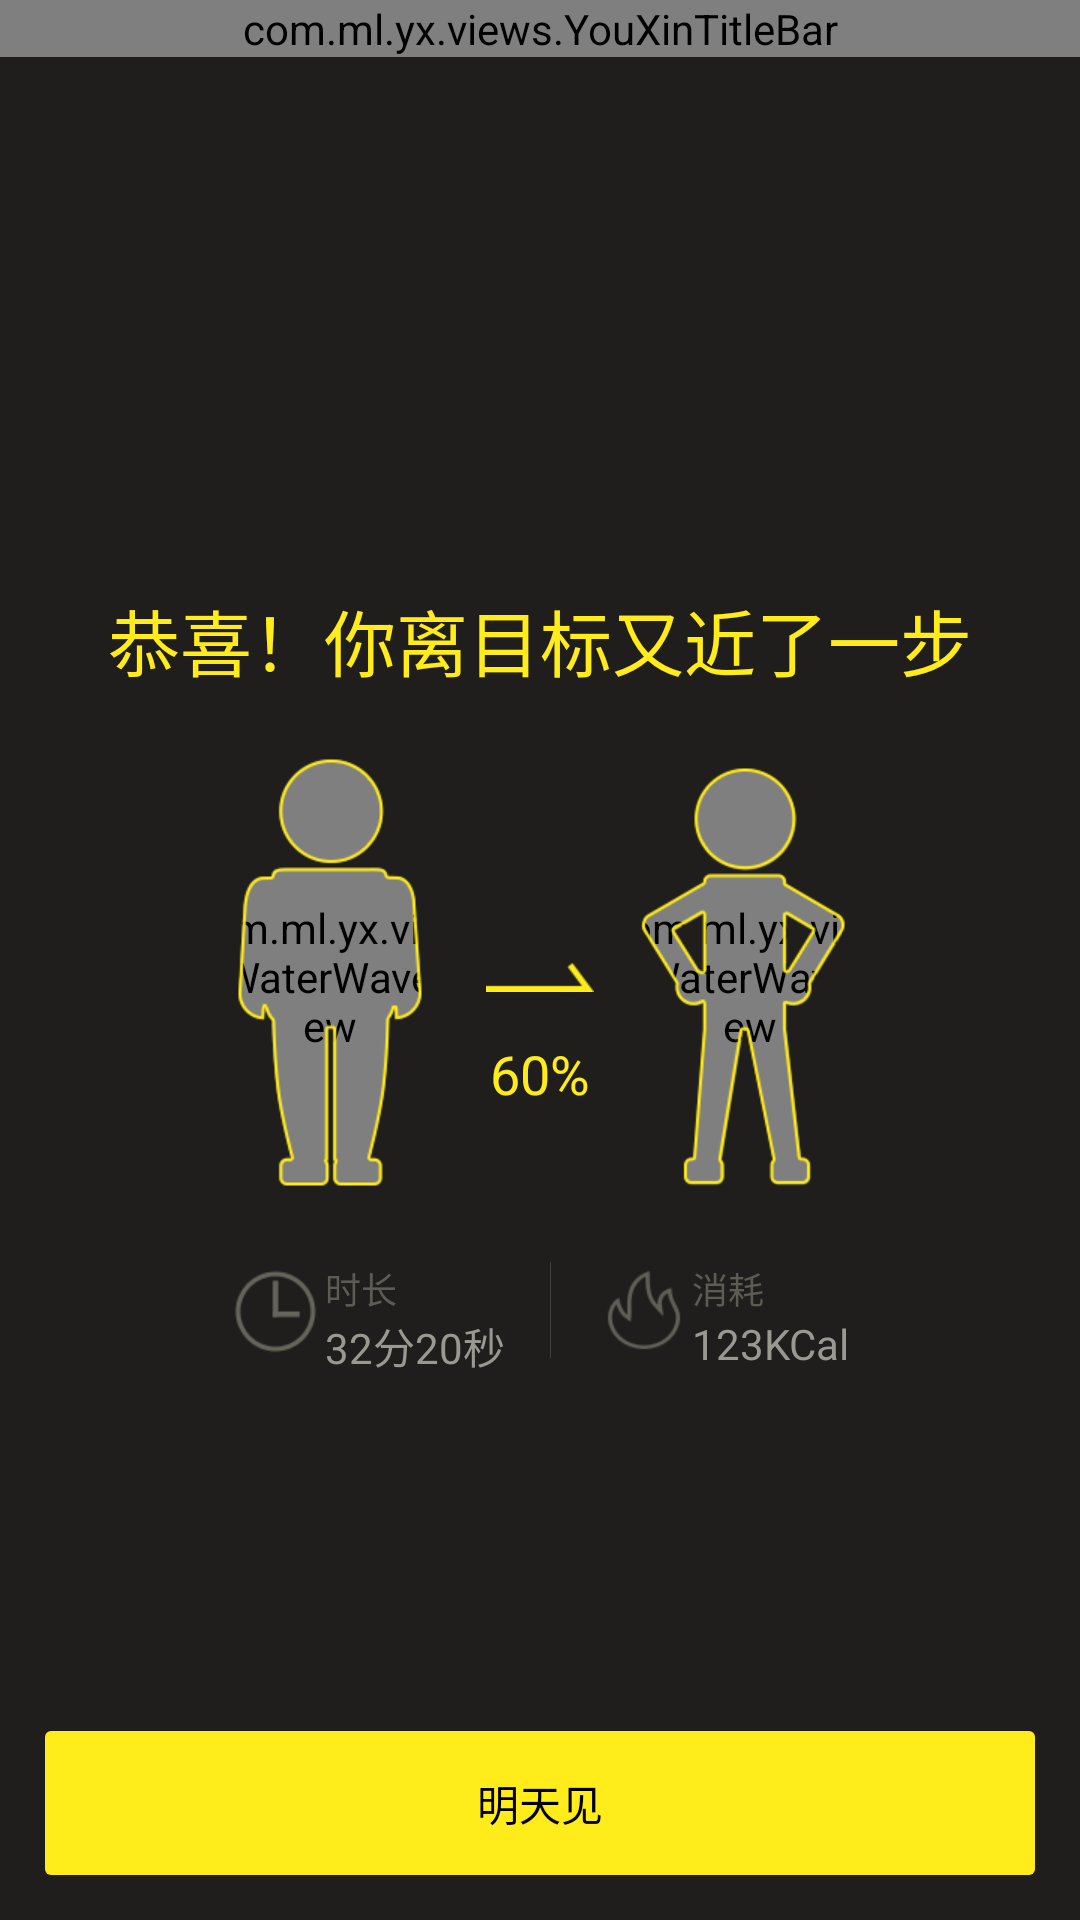

Point at icon controls on the screen. Image size 1080 × 1920, points as (x=x, y=y).
level done arrow: (x=540, y=977)
level done kcal: (x=644, y=1310)
